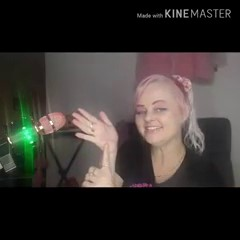T: (70, 103, 122, 189)
